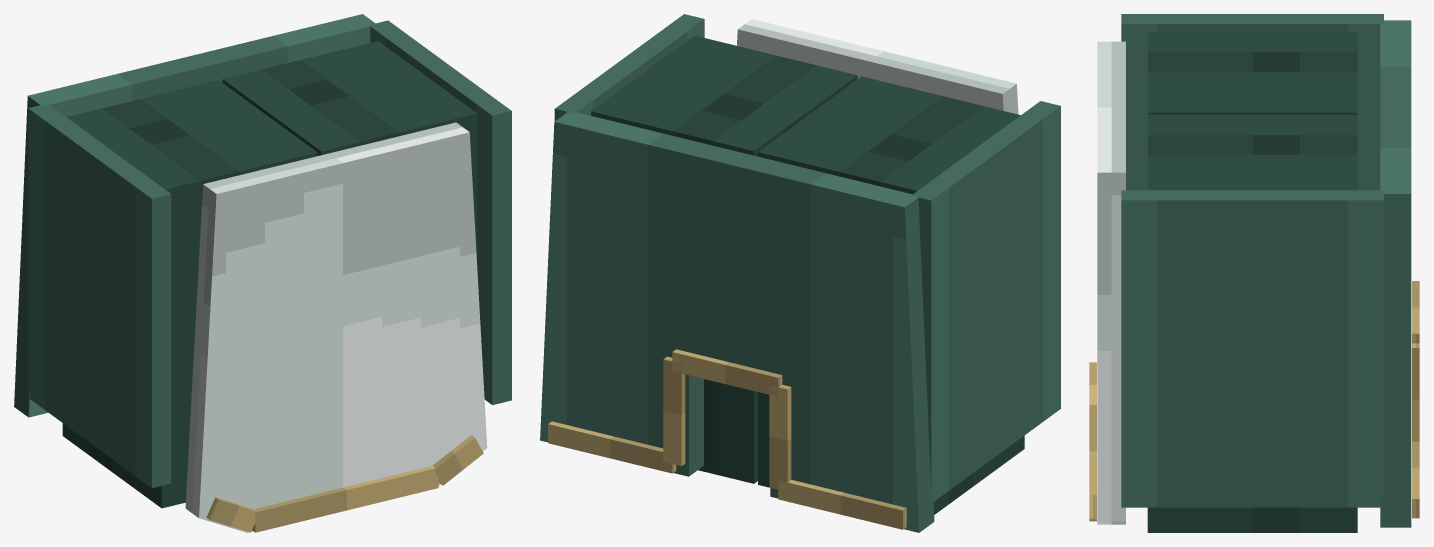
File: zhuji_yuheng_yizhuang_leggings.obj
3 views of the same model, side by side, from view 1: azimuth 30°, elevation 25°; view 2: azimuth 150°, elevation 25°; view 3: azimuth 270°, elevation 25° (orthographic). The views are drawn at different scales.
Visible parts, largest first — view 1: yuheng_front_hem, yuheng_side_hem_-1, yuheng_pants_-1, yuheng_pants_1, yuheng_back_hem, yuheng_side_hem_1, yuheng_front_hem_edge_1, yuheng_front_hem_edge_2, yuheng_front_hem_edge_0; view 2: yuheng_back_hem, yuheng_side_hem_-1, yuheng_pants_1, yuheng_pants_-1, yuheng_front_hem, yuheng_side_hem_1, yuheng_back_hem_edge_0, yuheng_back_hem_edge_4, yuheng_back_hem_edge_2, yuheng_back_hem_edge_3, yuheng_back_hem_edge_1; view 3: yuheng_side_hem_1, yuheng_pants_1, yuheng_pants_-1, yuheng_back_hem, yuheng_front_hem, yuheng_side_hem_-1, yuheng_back_hem_edge_3, yuheng_front_hem_edge_1, yuheng_back_hem_edge_4, yuheng_back_hem_edge_2.
Part boxes in pixels (left/top/right/bottom): yuheng_front_hem: left=185, top=122, right=487, bottom=532; yuheng_side_hem_-1: left=28, top=104, right=171, bottom=488; yuheng_pants_-1: left=62, top=80, right=317, bottom=508; yuheng_pants_1: left=222, top=41, right=477, bottom=264; yuheng_back_hem: left=14, top=14, right=375, bottom=417; yuheng_side_hem_1: left=369, top=20, right=511, bottom=404; yuheng_front_hem_edge_1: left=252, top=465, right=438, bottom=532; yuheng_front_hem_edge_2: left=432, top=435, right=483, bottom=485; yuheng_front_hem_edge_0: left=206, top=497, right=257, bottom=532; yuheng_back_hem: left=540, top=112, right=934, bottom=532; yuheng_side_hem_-1: left=911, top=101, right=1060, bottom=501; yuheng_pants_1: left=591, top=35, right=857, bottom=483; yuheng_pants_-1: left=758, top=76, right=1024, bottom=514; yuheng_front_hem: left=737, top=19, right=1018, bottom=114; yuheng_side_hem_1: left=554, top=14, right=704, bottom=120; yuheng_back_hem_edge_0: left=778, top=480, right=906, bottom=529; yuheng_back_hem_edge_4: left=548, top=421, right=676, bottom=473; yuheng_back_hem_edge_2: left=672, top=349, right=782, bottom=396; yuheng_back_hem_edge_3: left=663, top=356, right=685, bottom=465; yuheng_back_hem_edge_1: left=769, top=384, right=791, bottom=489; yuheng_side_hem_1: left=1121, top=190, right=1383, bottom=507; yuheng_pants_1: left=1147, top=114, right=1357, bottom=532; yuheng_pants_-1: left=1147, top=32, right=1357, bottom=114; yuheng_back_hem: left=1380, top=20, right=1411, bottom=527; yuheng_front_hem: left=1097, top=41, right=1125, bottom=524; yuheng_side_hem_-1: left=1121, top=14, right=1383, bottom=190; yuheng_back_hem_edge_3: left=1412, top=343, right=1419, bottom=441; yuheng_front_hem_edge_1: left=1089, top=405, right=1096, bottom=494; yuheng_back_hem_edge_4: left=1412, top=442, right=1419, bottom=518; yuheng_back_hem_edge_2: left=1412, top=281, right=1419, bottom=343.
Bounding box in the file's own units: 0.5813 × 0.5312 × 0.4325.
